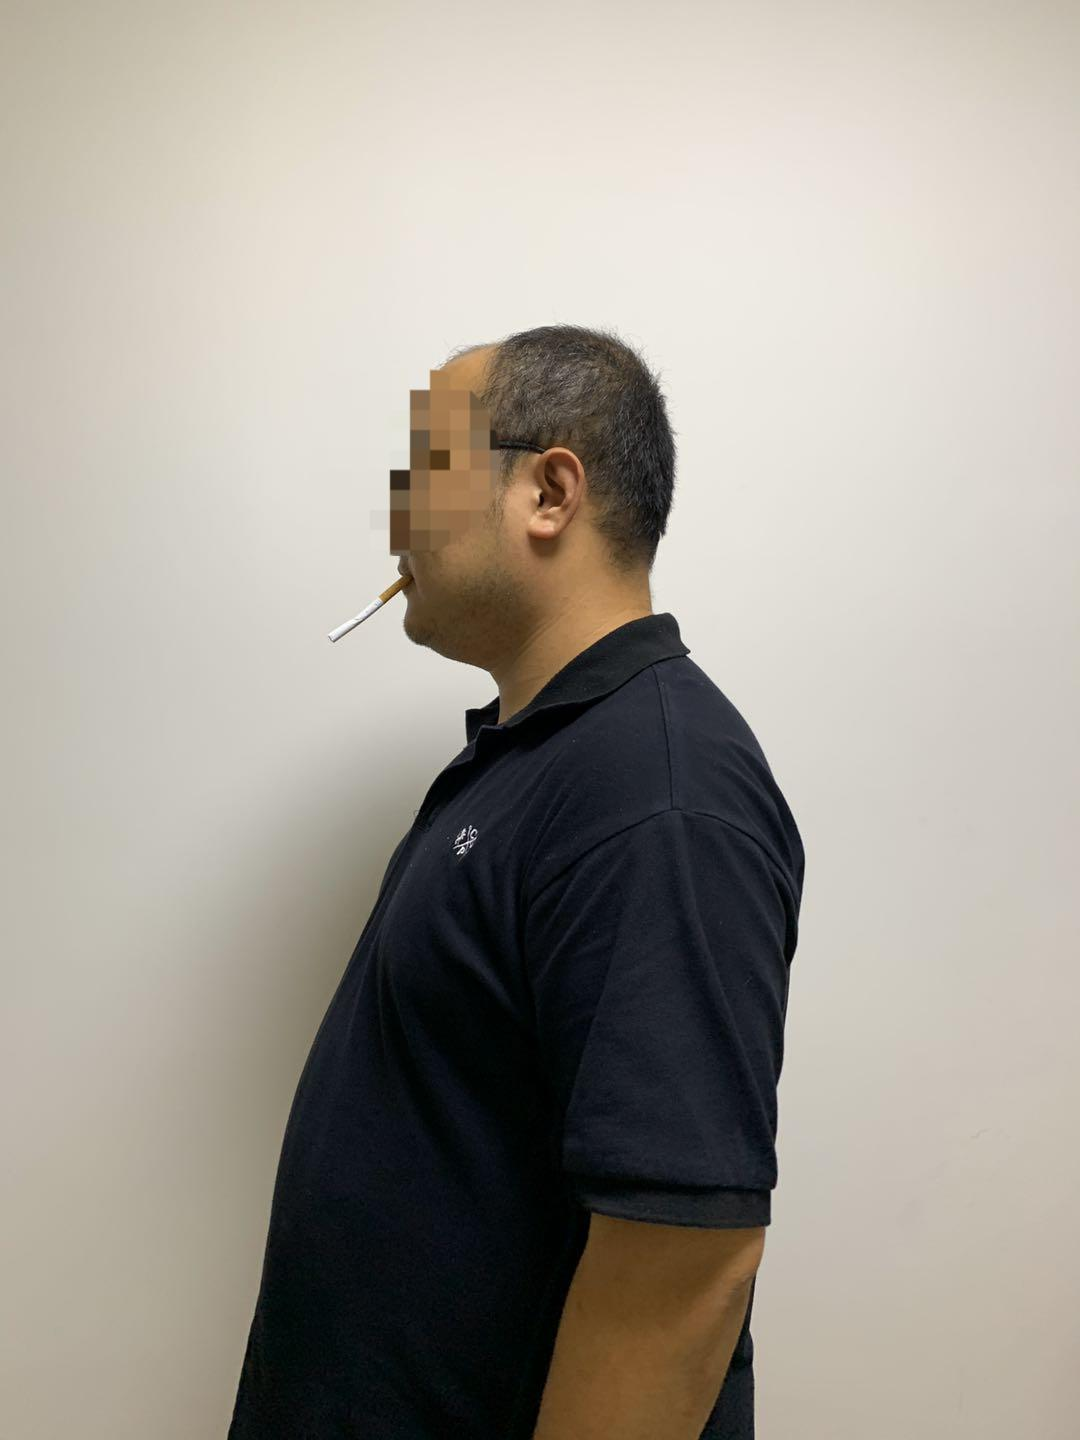smoke: (328, 581, 407, 646)
